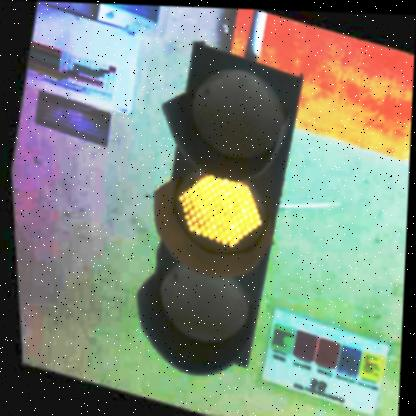Traffic Light -Yellow-: (98, 38, 331, 396)
